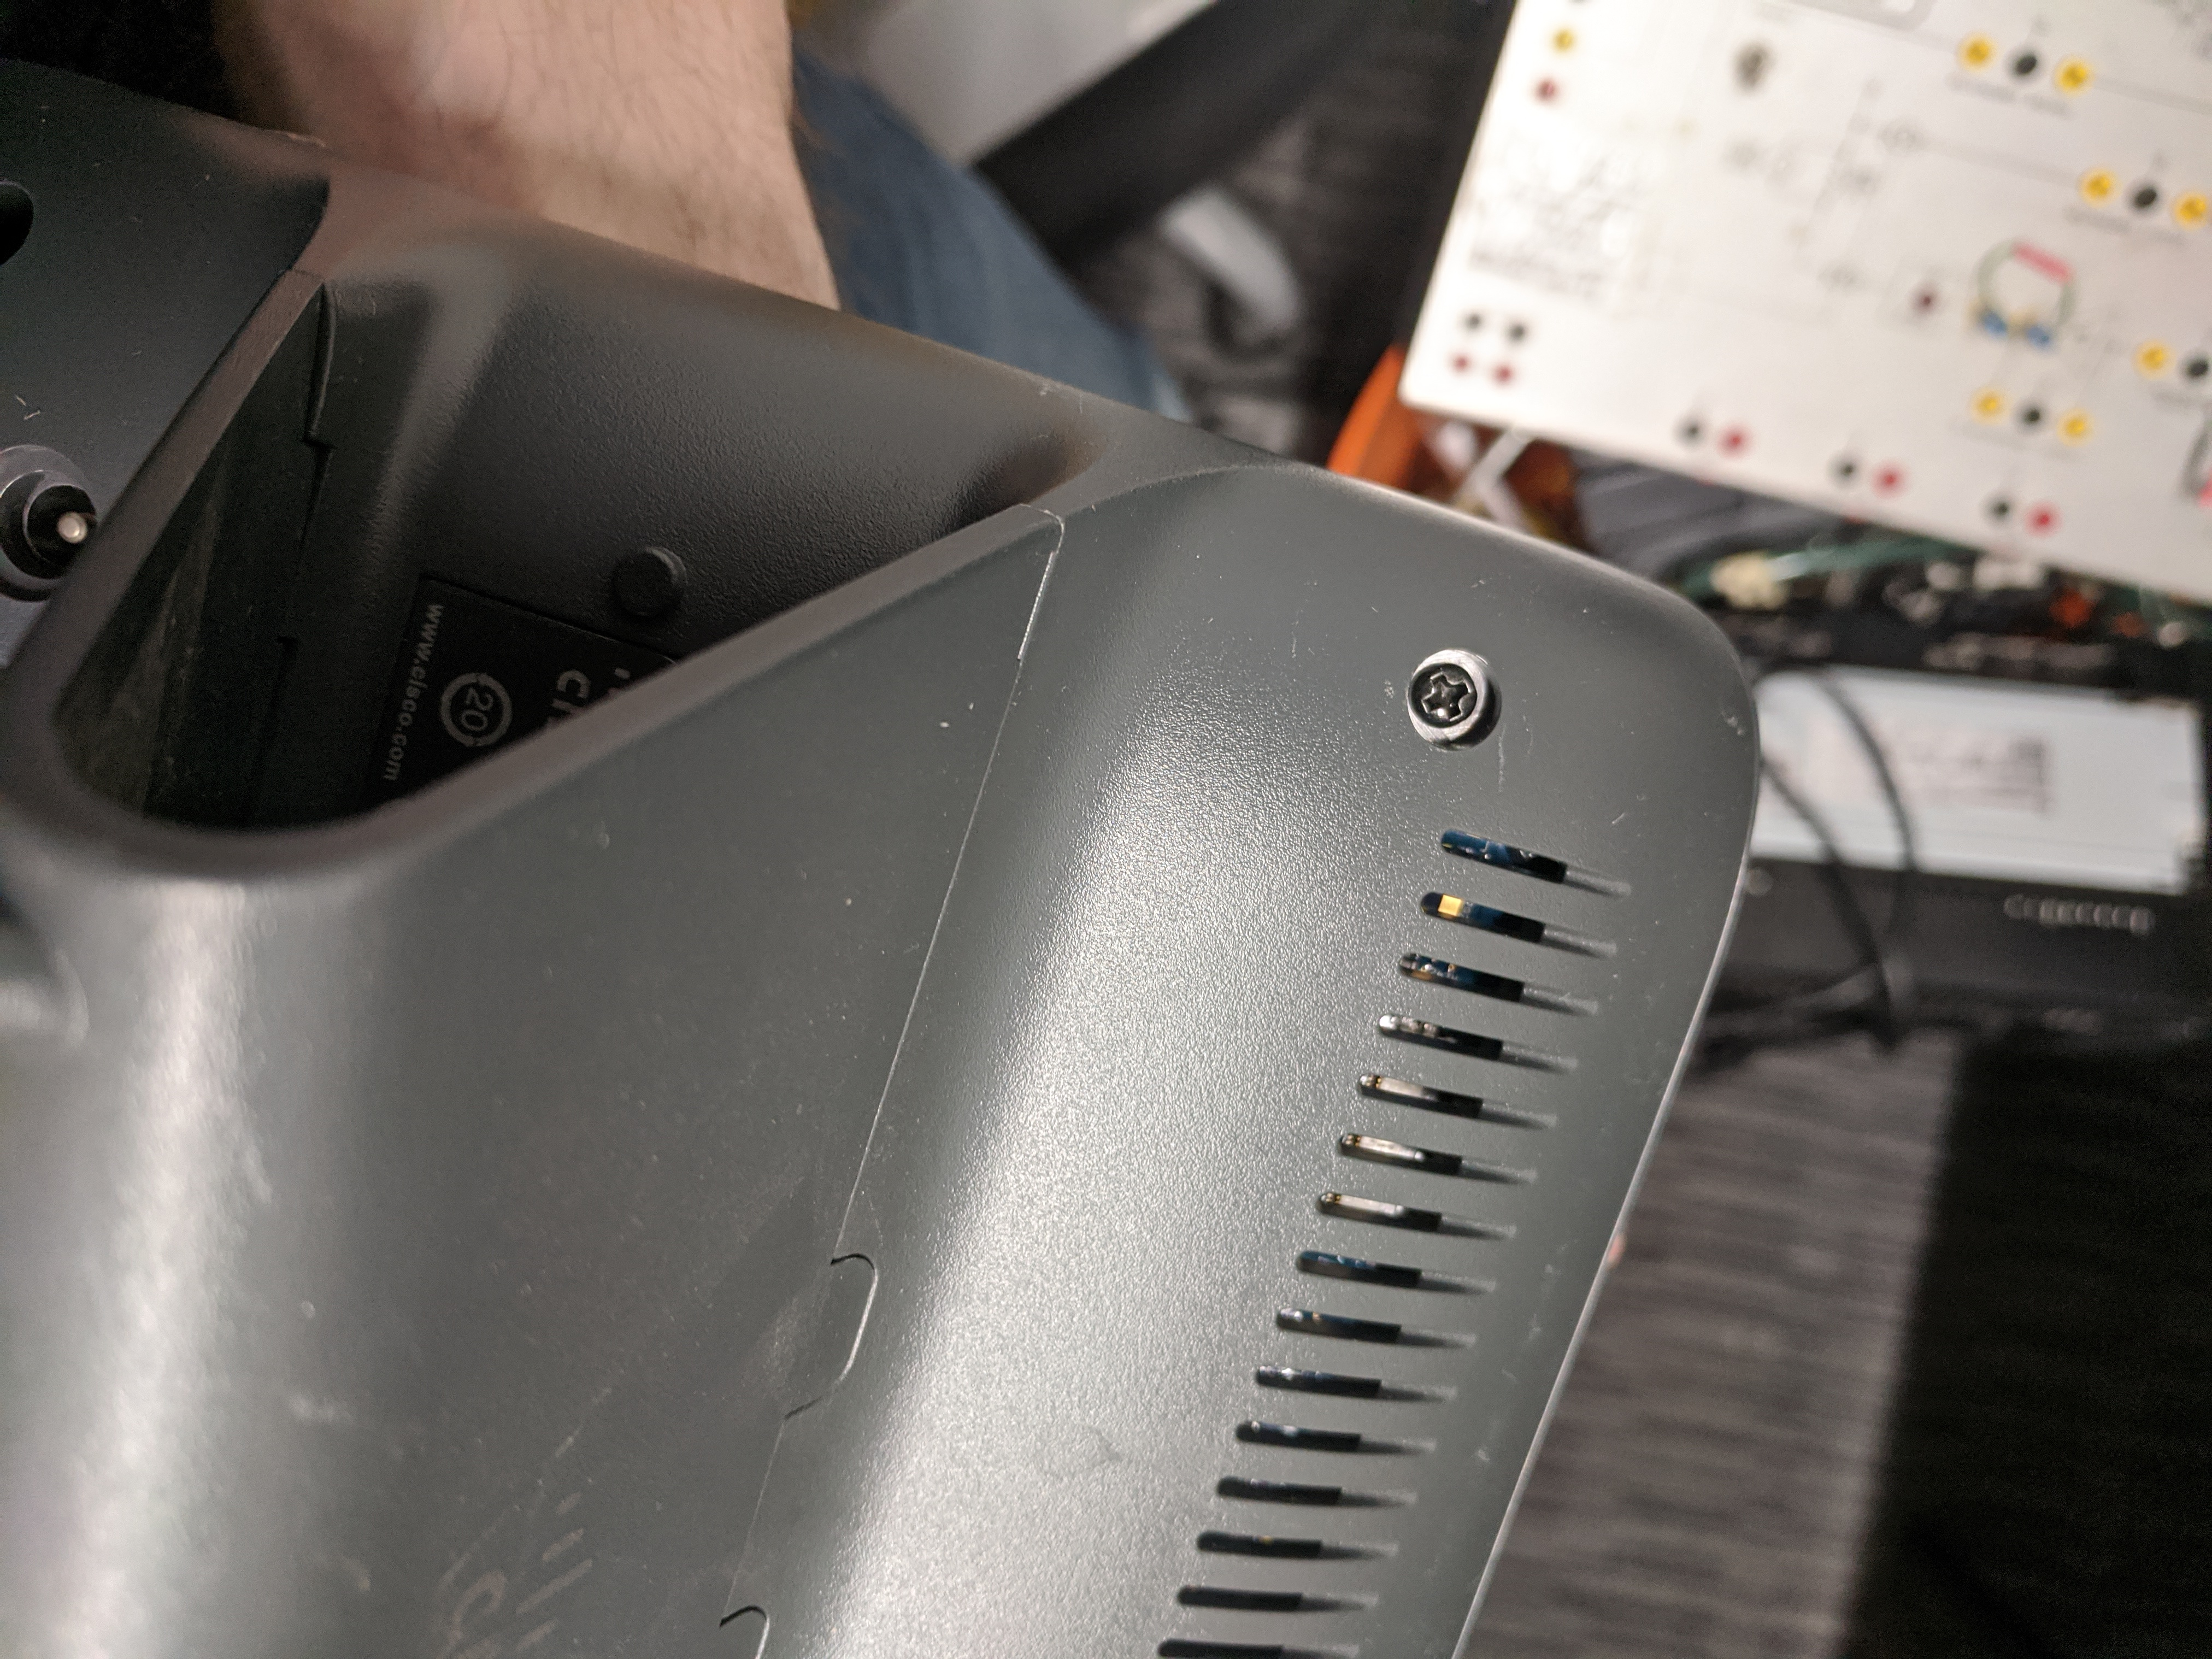cross_recessed_screw: (1409, 653, 1479, 728)
